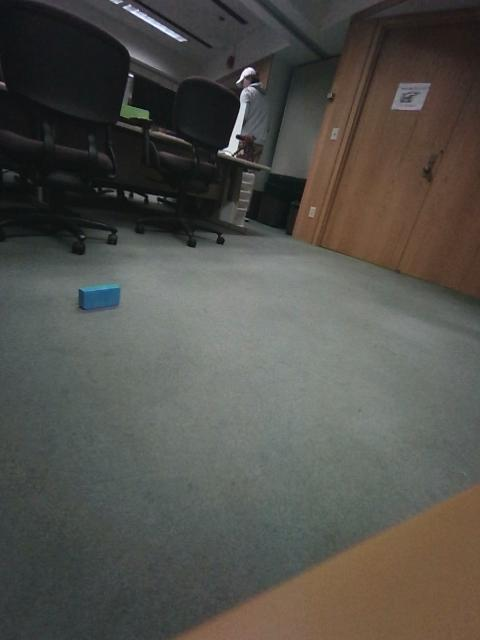block: (306, 269, 326, 295)
